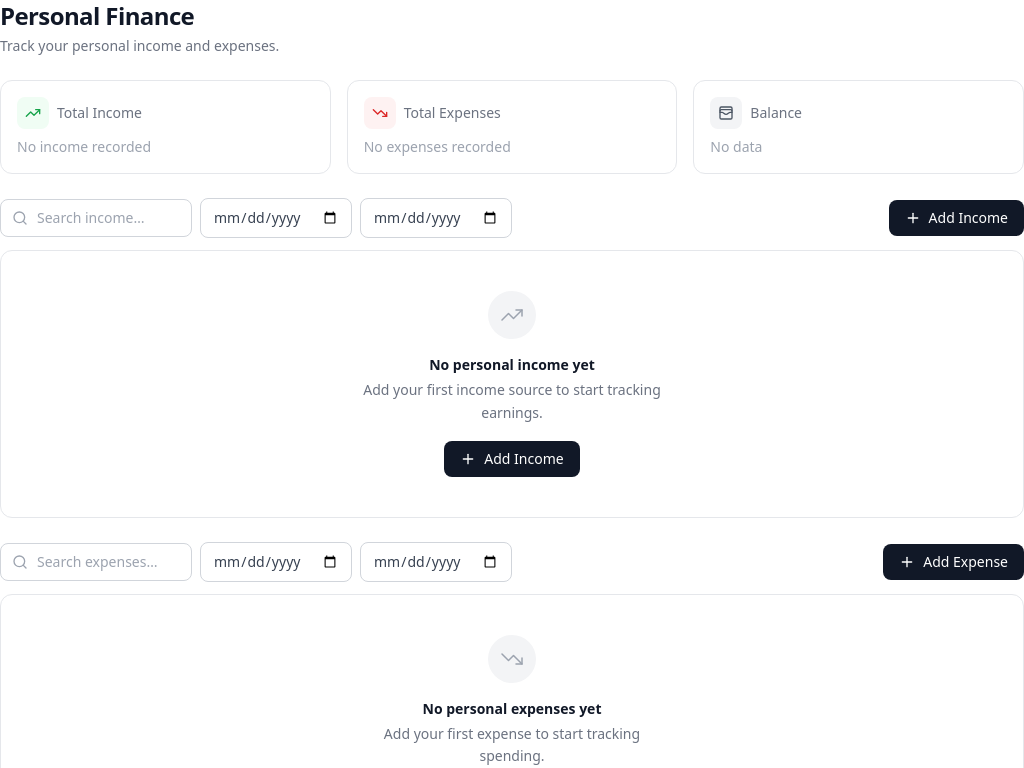
Test case: PersonalFinancePage — income CRUD › shows service error on income create failure
Check: the heading "No personal income yet" is shown, box [429,355,595,375]
Step 1. Click the 1st button "Add Income" → x=956, y=218, box [889,200,1023,236]
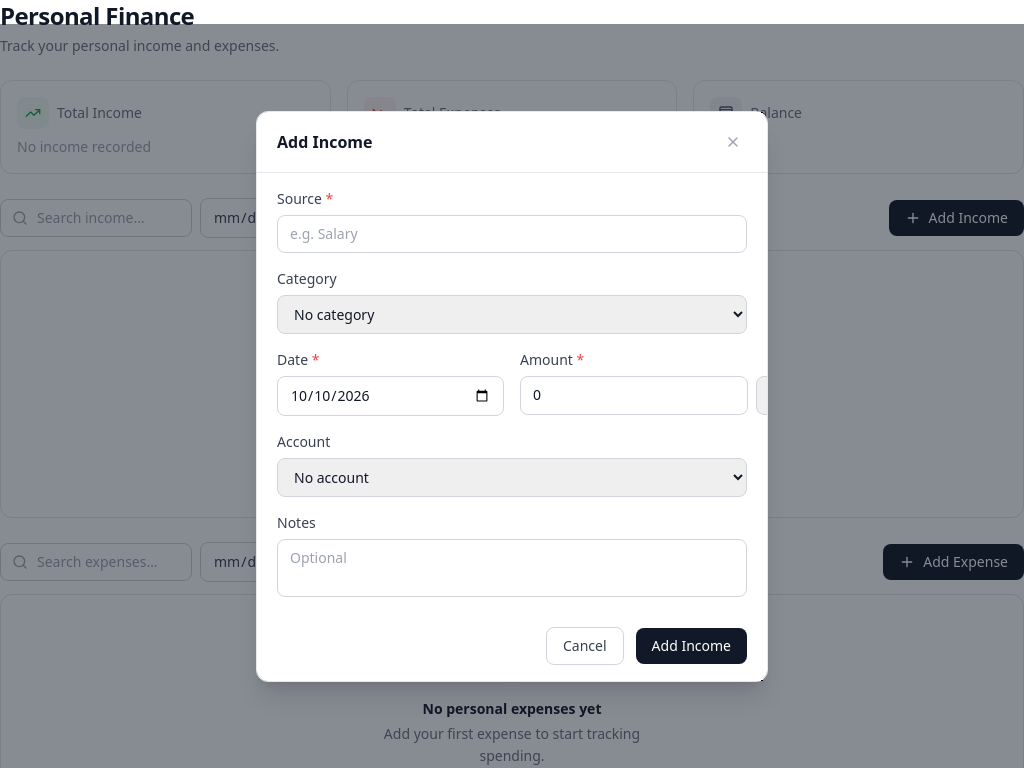
Check: the dialog is shown, box [256,110,768,682]
Step 2. Type "Salary" into the field labelled "Source *" → x=512, y=234, box [277,214,747,252]
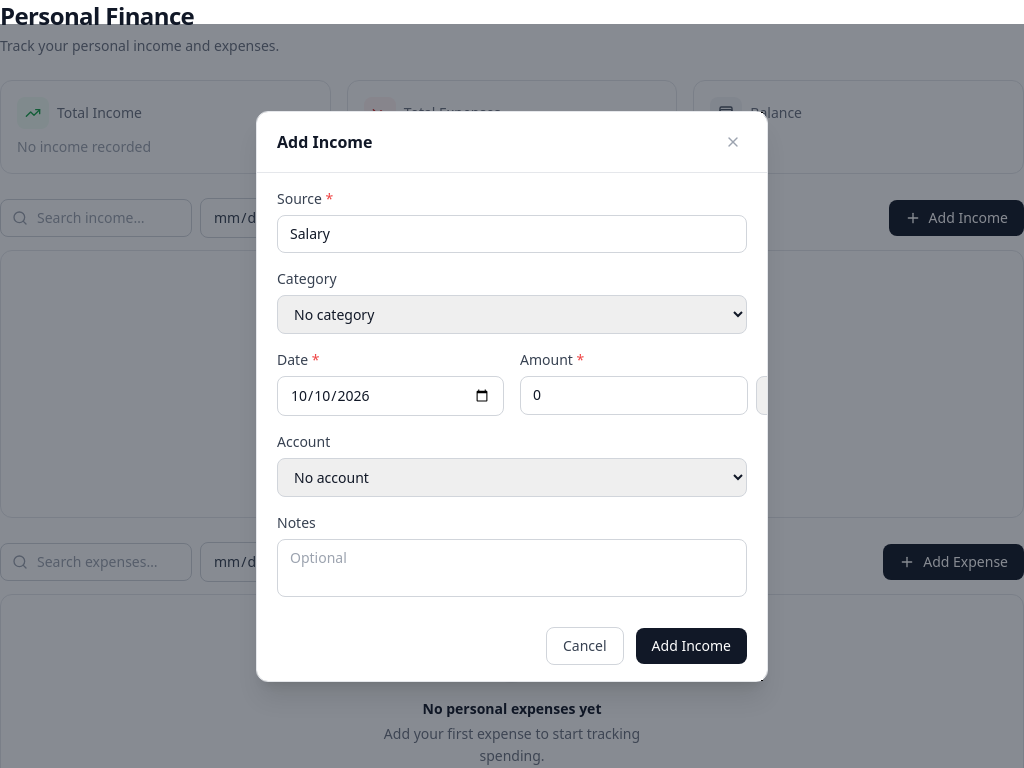
Step 3. Replace the text in the number field labelled "Amount *" with "100.00" → x=634, y=395, box [520,376,748,414]
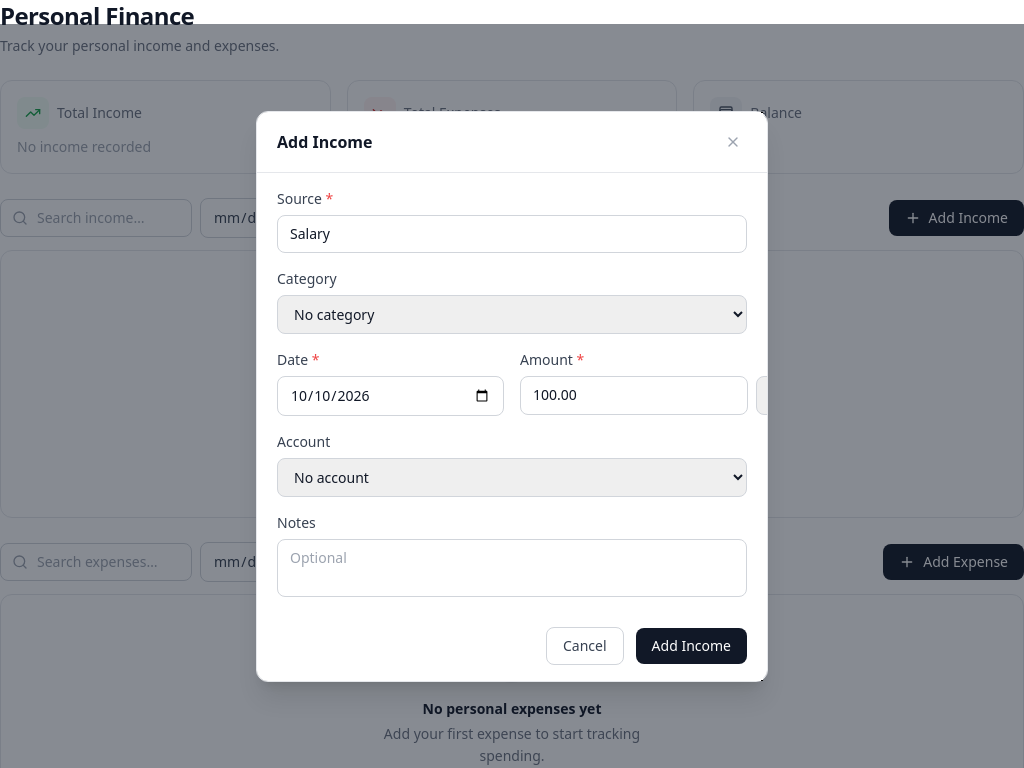
Step 4. Click the button "Add Income" → x=691, y=646, box [636,628,747,664]
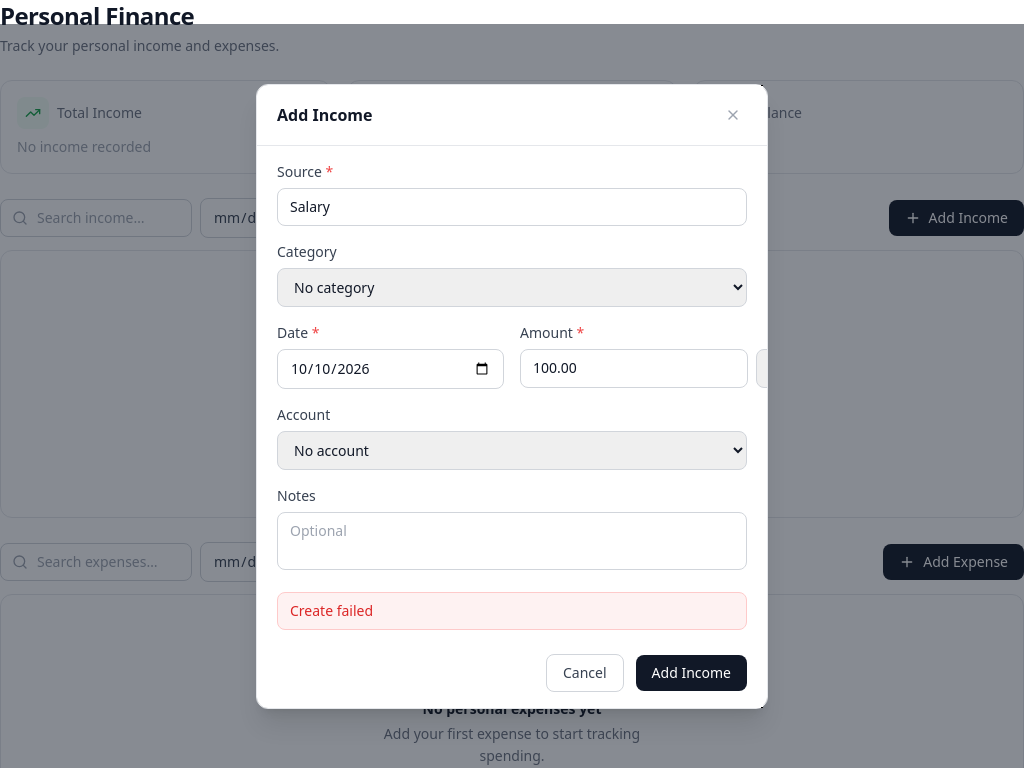
Check: the text "Create failed" is shown, box [277,592,747,630]
